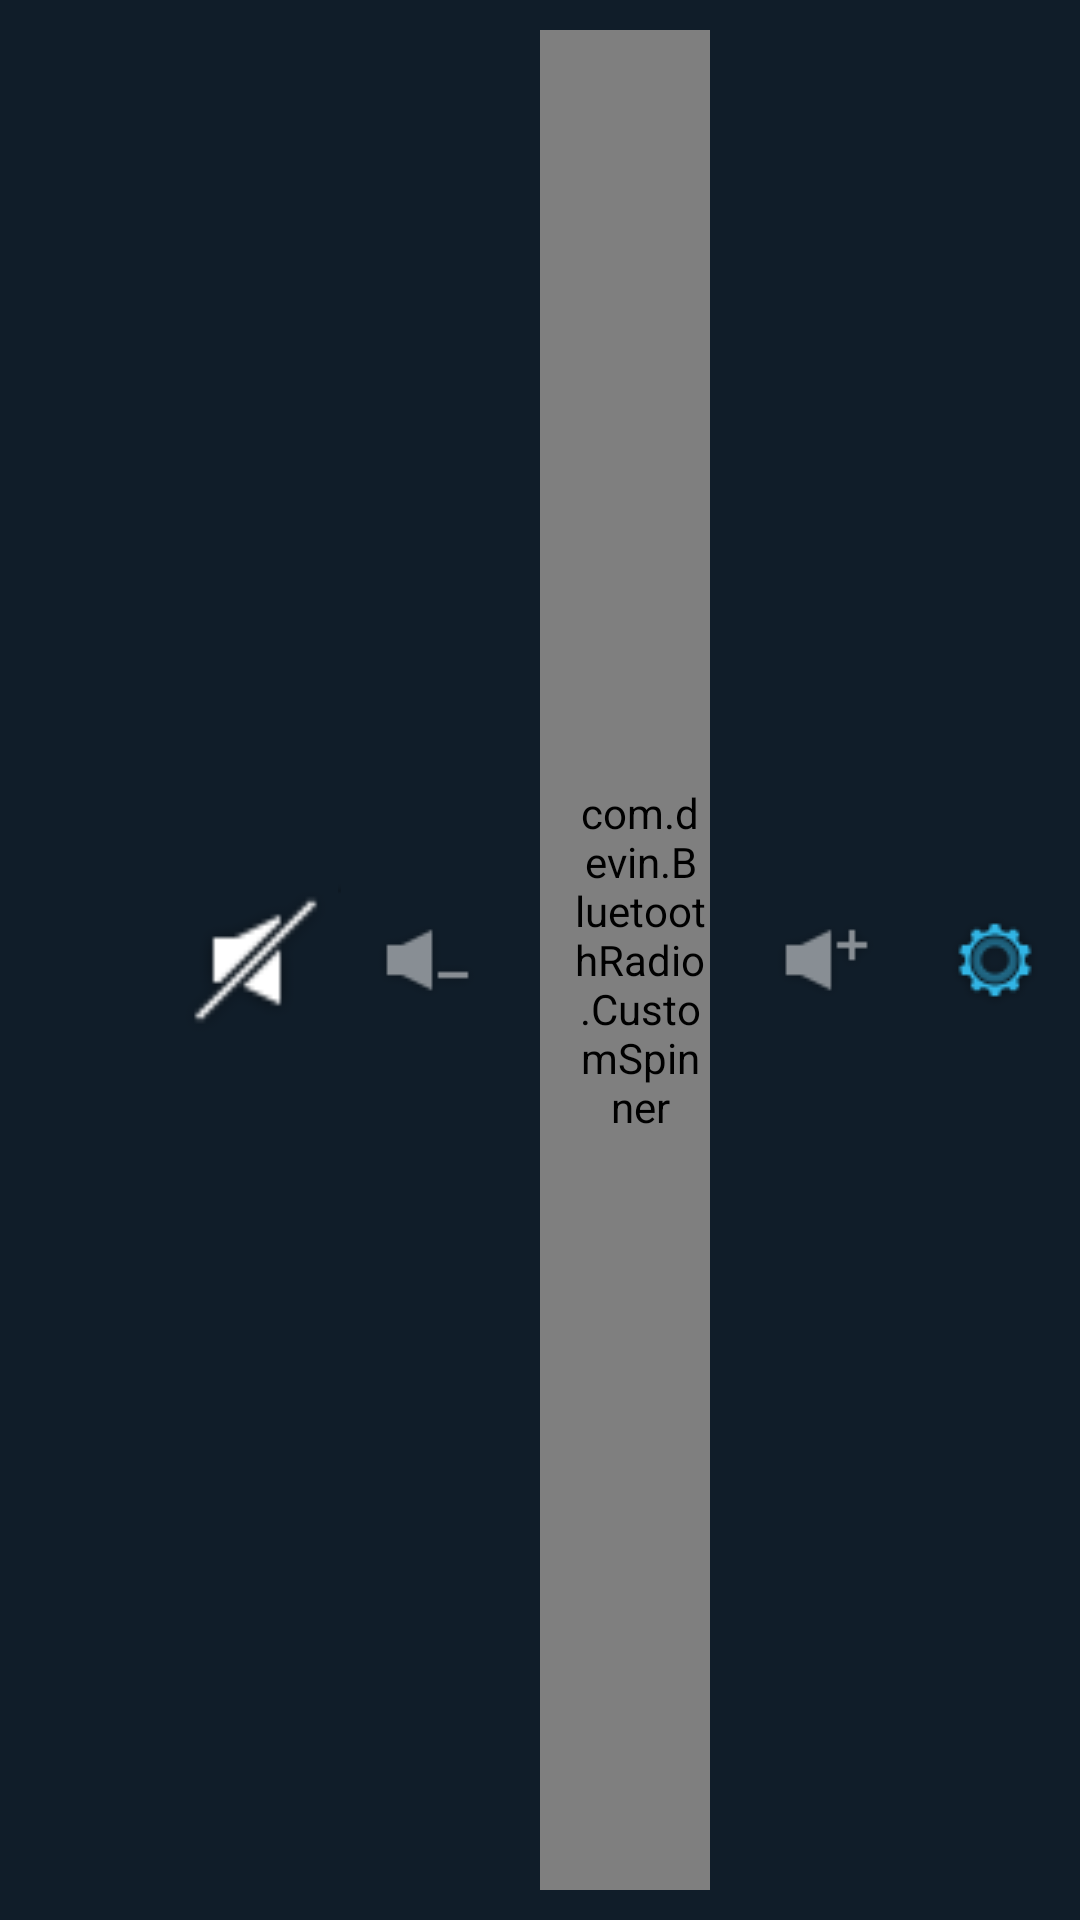

Icon click points for this 1080×1920 phone screenshot, format (x=x, y=y):
comm shortcut bar mute: (x=255, y=960)
setting title: (x=995, y=960)
